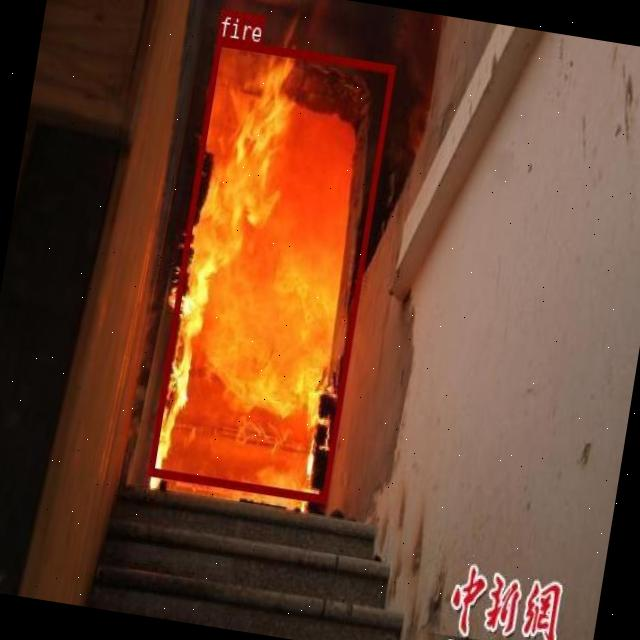fire: (148, 36, 396, 502)
